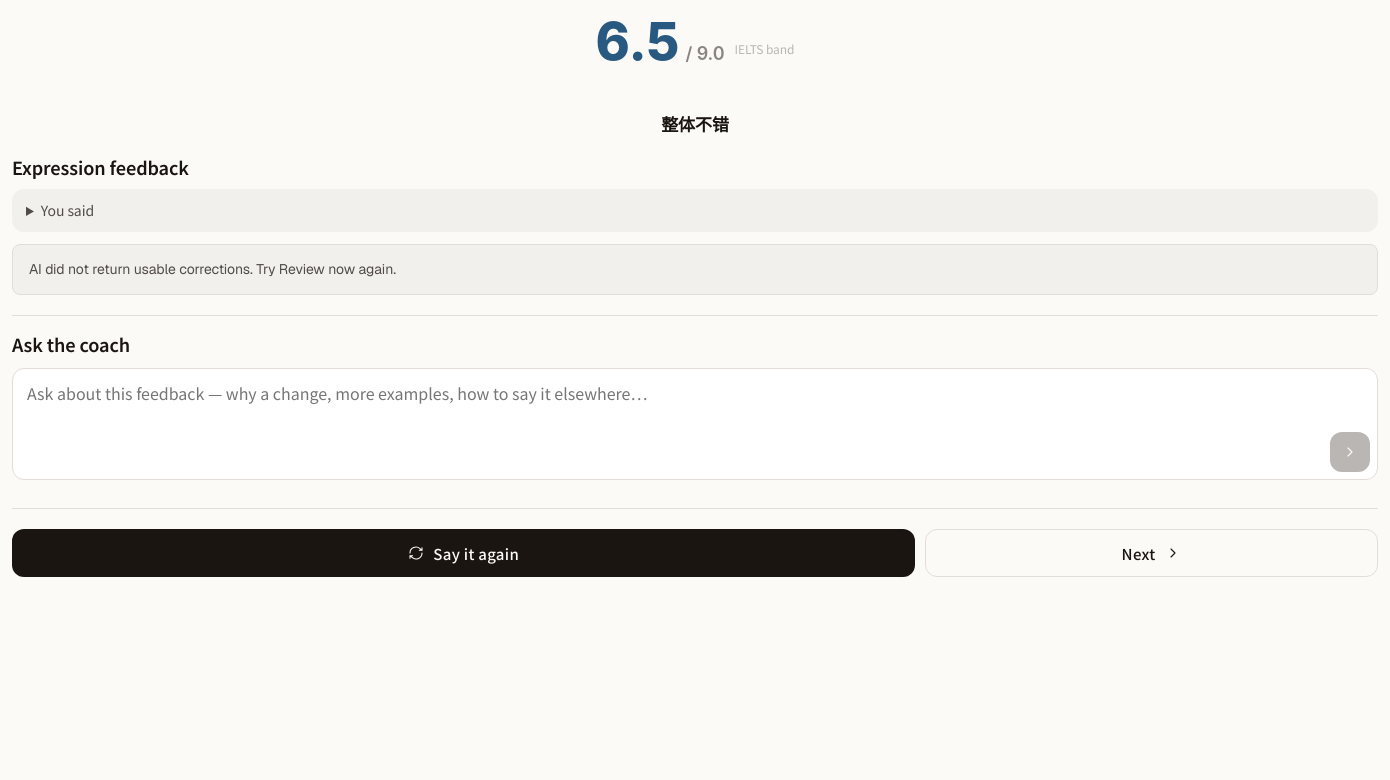
Test: PracticeFeedbackView › 没有可用录音时只显示原话，不渲染播放器
Click the heading "You said" at (67, 210), box [41,200,94,220]
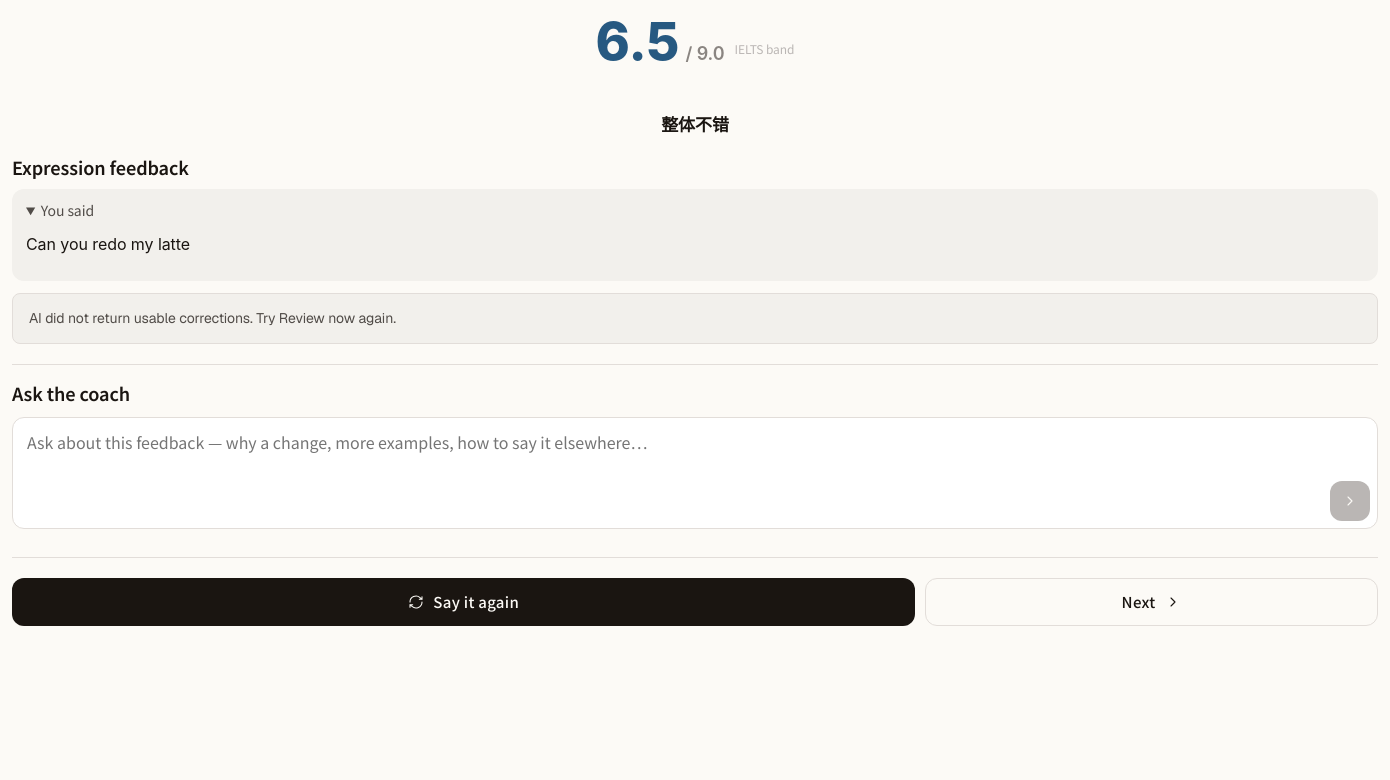
Check: the text "Can you redo my latte" is shown, box [26,234,190,254]
